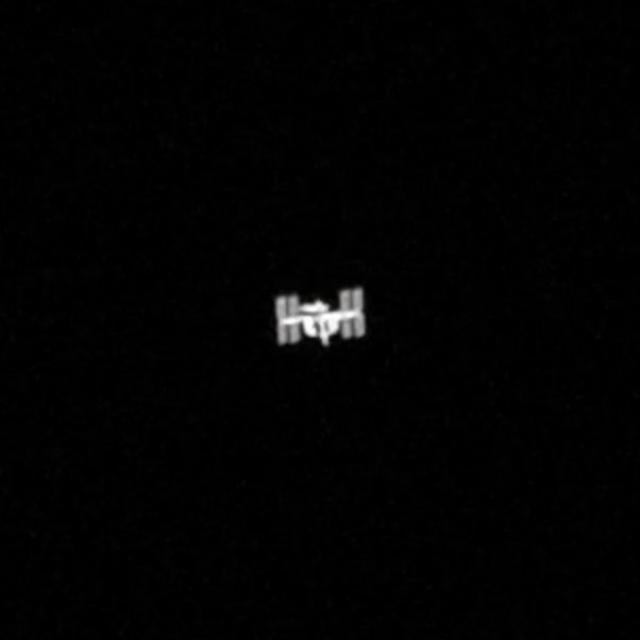medium_debris: (275, 286, 365, 346)
